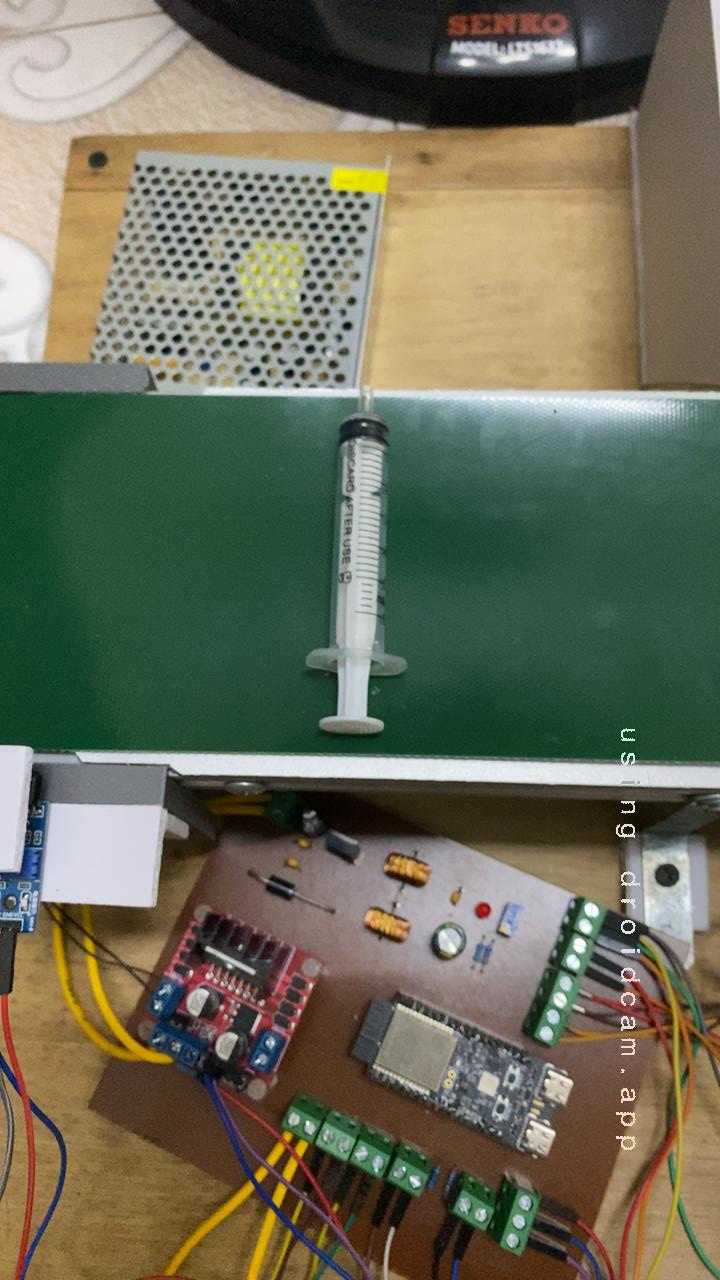syringe: (277, 401, 452, 750)
